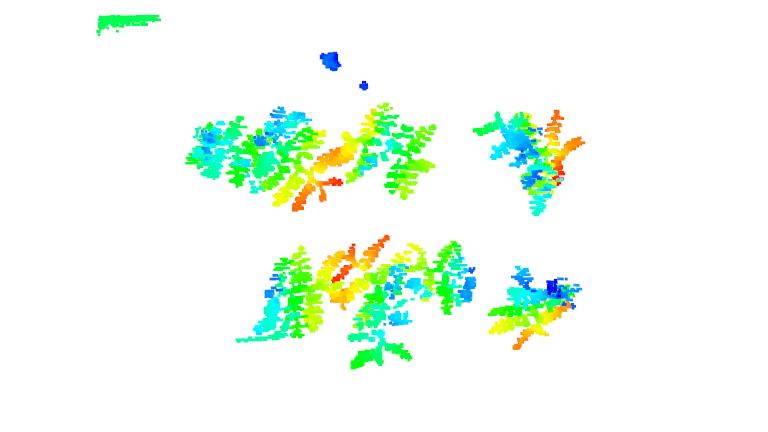chickpea: (341, 238, 427, 372), (476, 110, 586, 214), (235, 245, 335, 357), (259, 107, 346, 217), (341, 105, 437, 202), (487, 266, 587, 354), (184, 108, 249, 197), (417, 237, 481, 314)
